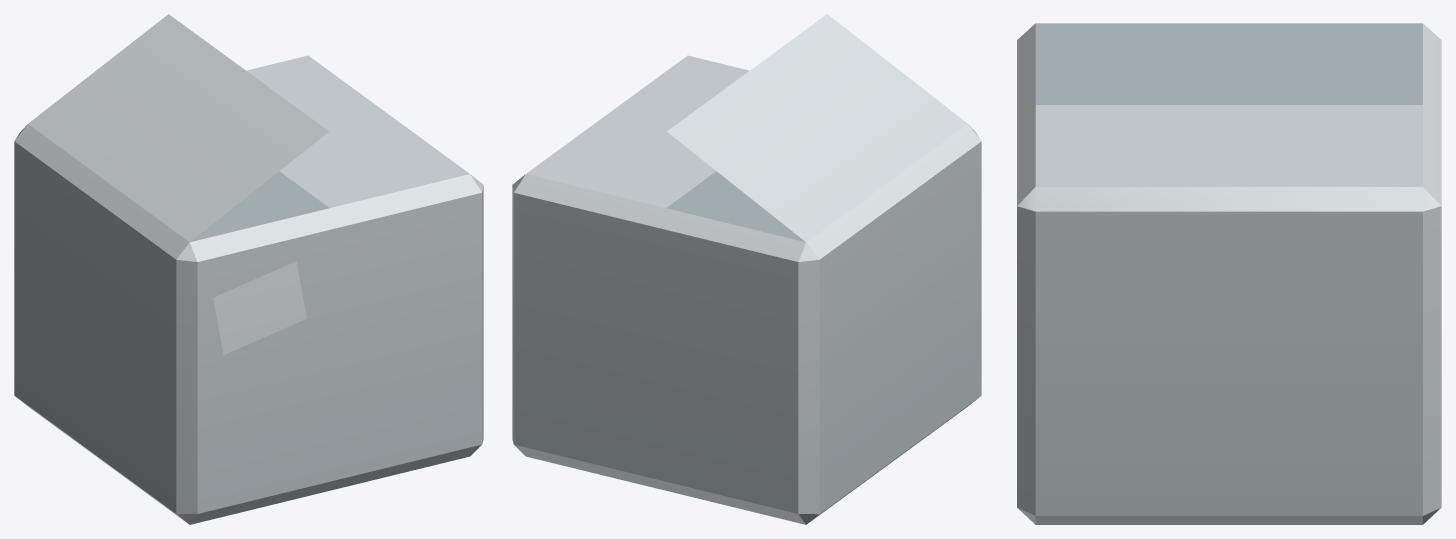
Rendered from box_archive.glb.
The picture shows the model from 3 angles, left to right: view 1: azimuth 30°, elevation 25°; view 2: azimuth 150°, elevation 25°; view 3: azimuth 270°, elevation 25°; orthographic projection. The views are drawn at different scales.
Visible parts, largest first — view 1: Box_A; view 2: Box_A; view 3: Box_A.
Boxes of the visible parts, x1,y1,x2,y2 form: Box_A: (14,14,483,524); Box_A: (512,14,981,524); Box_A: (1017,23,1441,524).
Size of the model in its own units: 0.4562 by 0.5089 by 0.4632.
1 material, 1 textured.
